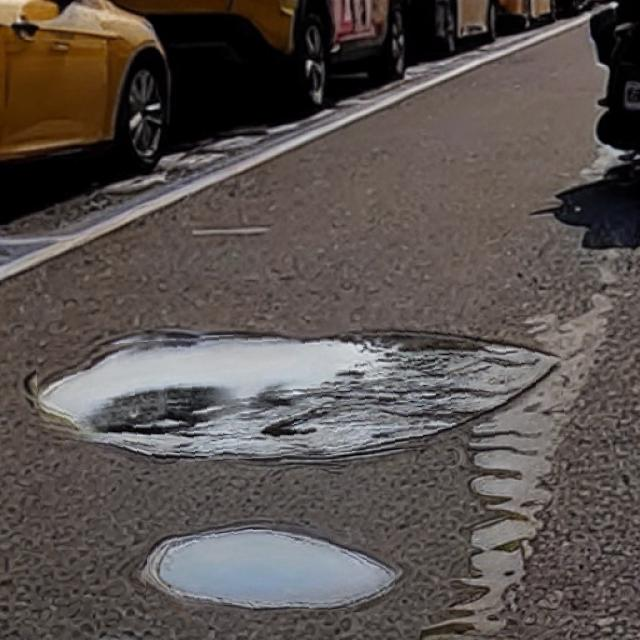puddle: (37, 324, 565, 466), (147, 526, 398, 611)
